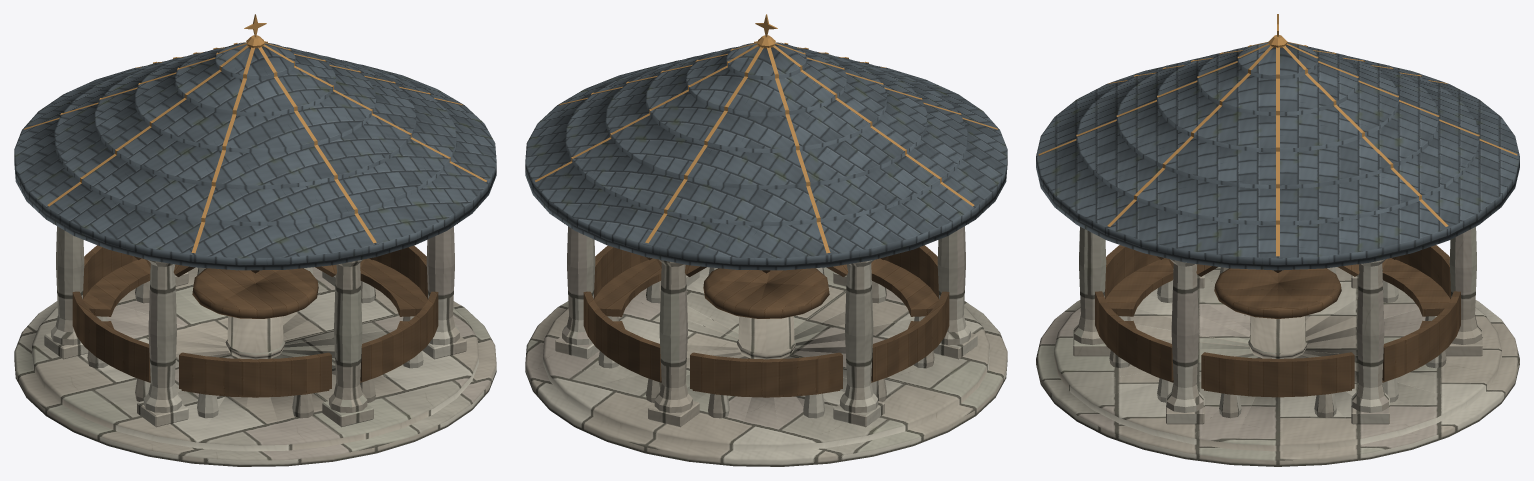
File: Furn_Gazebo2.fbx
3 renders of one model, left to right at view 1: azimuth 30°, elevation 25°; view 2: azimuth 150°, elevation 25°; view 3: azimuth 270°, elevation 25°, orthographic.
Parts seen in each view (by area): view 1: Furn_Gazebo2_Mesh; view 2: Furn_Gazebo2_Mesh; view 3: Furn_Gazebo2_Mesh.
Part boxes in pixels (x1,y1,x2,y2): Furn_Gazebo2_Mesh: [14, 14, 496, 466]; Furn_Gazebo2_Mesh: [525, 14, 1007, 466]; Furn_Gazebo2_Mesh: [1036, 14, 1519, 466].
Size of the model in its own units: 6 by 4.8 by 6.
Materials: 4 (3 with a texture image).
